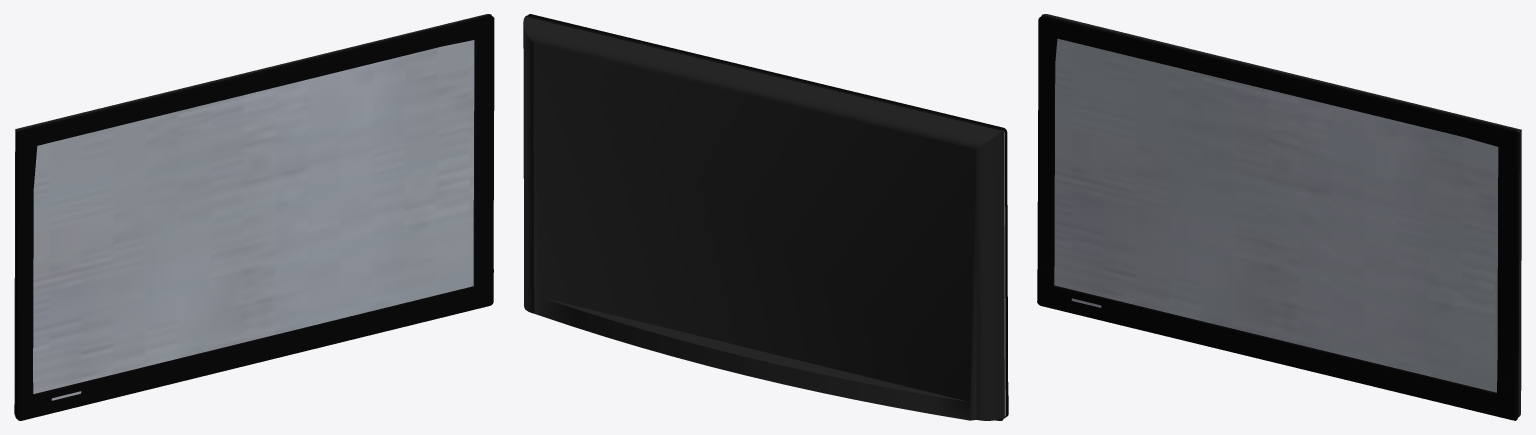
Rendered from Monitor.glb.
3 renders of one model, left to right at view 1: azimuth 30°, elevation 25°; view 2: azimuth 150°, elevation 25°; view 3: azimuth 330°, elevation 25°, orthographic.
Visible parts, largest first — view 1: Group1.2; view 2: Group1.2; view 3: Group1.2.
Part boxes in pixels (x1=…): Group1.2: x1=14, y1=14, x2=494, y2=420; Group1.2: x1=523, y1=14, x2=1008, y2=420; Group1.2: x1=1037, y1=14, x2=1521, y2=420.
Size of the model in its own units: 44.01 by 25.63 by 3.67.
5 materials, 1 textured.
